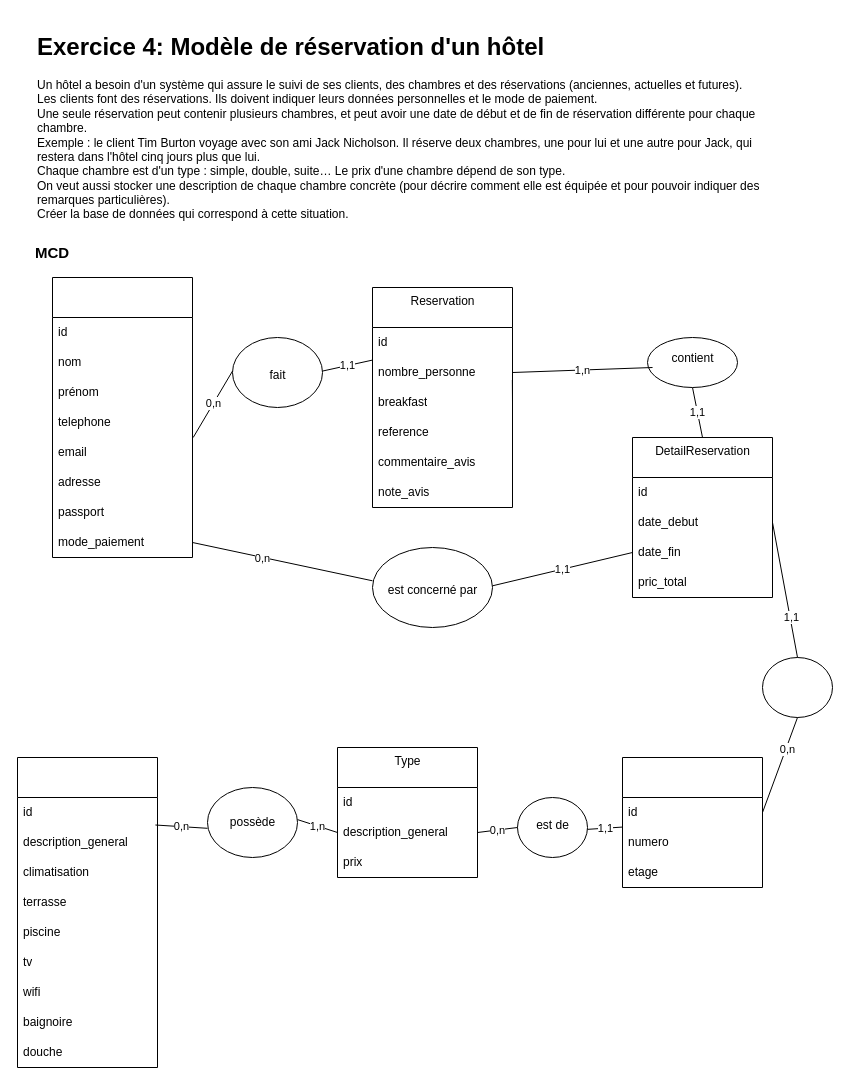
Some shapes in this 850 by 1085 pixel diagram are drawn without their labels. The shapes that lost their labels are listed below. From the top down, each one's box as (x1, y1, x2, y2) in pixels, then its label:
(52, 276, 192, 558): Client
(762, 656, 832, 718): concerne
(622, 756, 762, 888): Chambre
(16, 756, 158, 1068): Equipement
